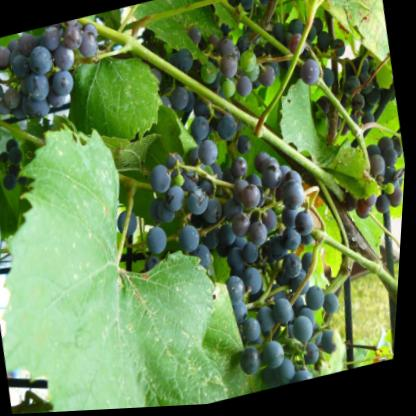--: (90, 0, 416, 412), (0, 8, 134, 146)
